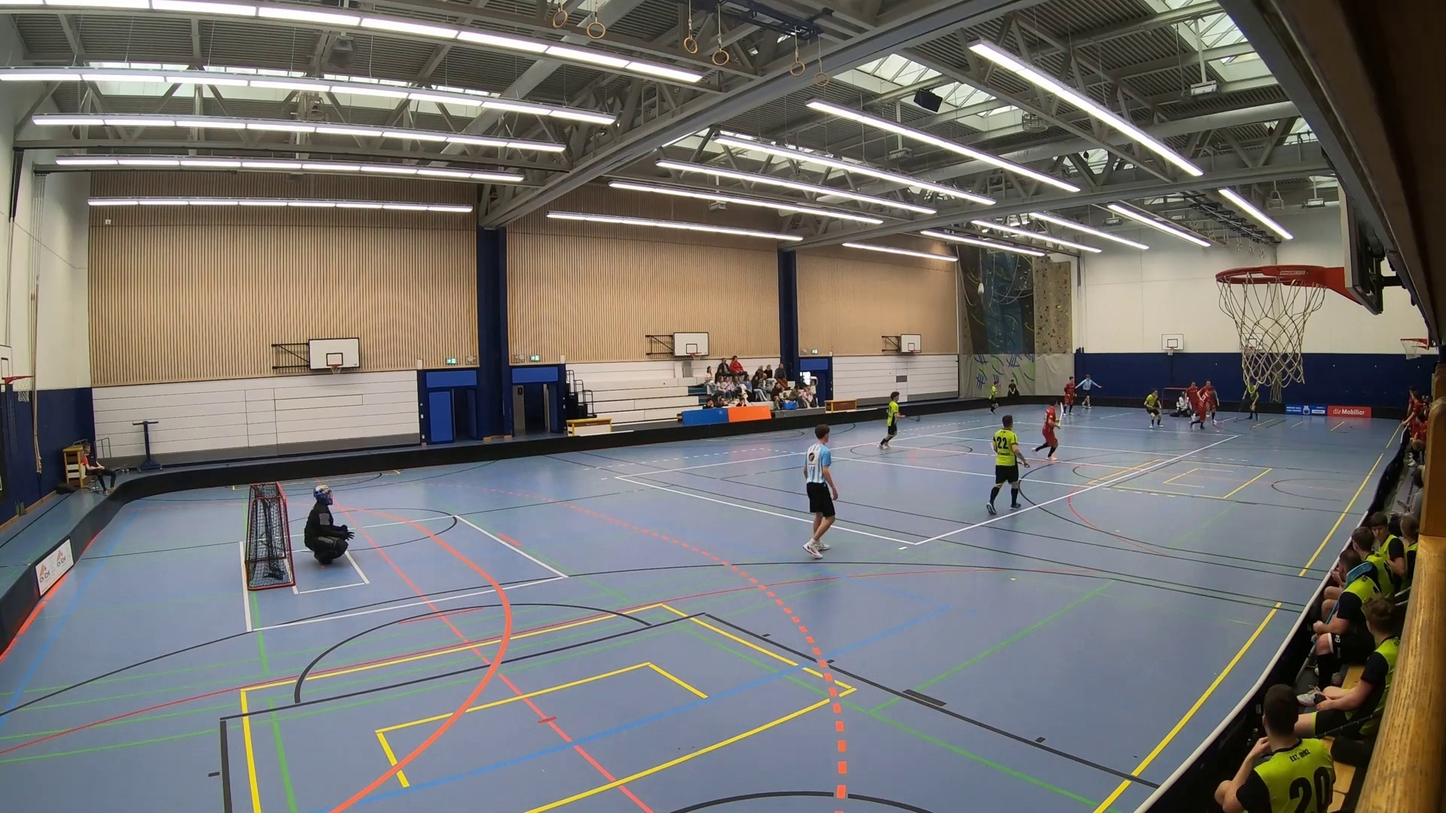Schiri: (781, 422, 856, 567), (1075, 370, 1105, 412)
ball: (1215, 429, 1220, 434)
goalkeeper: (286, 447, 359, 576), (1169, 389, 1193, 419)
player: (974, 409, 1039, 514), (875, 391, 924, 461), (1033, 397, 1069, 475), (1187, 386, 1224, 442), (1231, 379, 1263, 435), (1136, 387, 1164, 432), (982, 373, 1004, 415), (1061, 373, 1077, 419), (1195, 379, 1220, 400), (1186, 379, 1199, 415)
